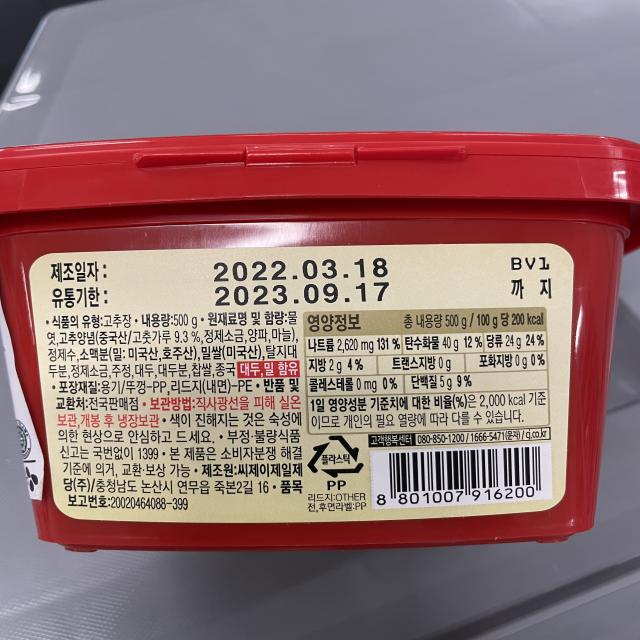object_name: (6, 145, 595, 521)
